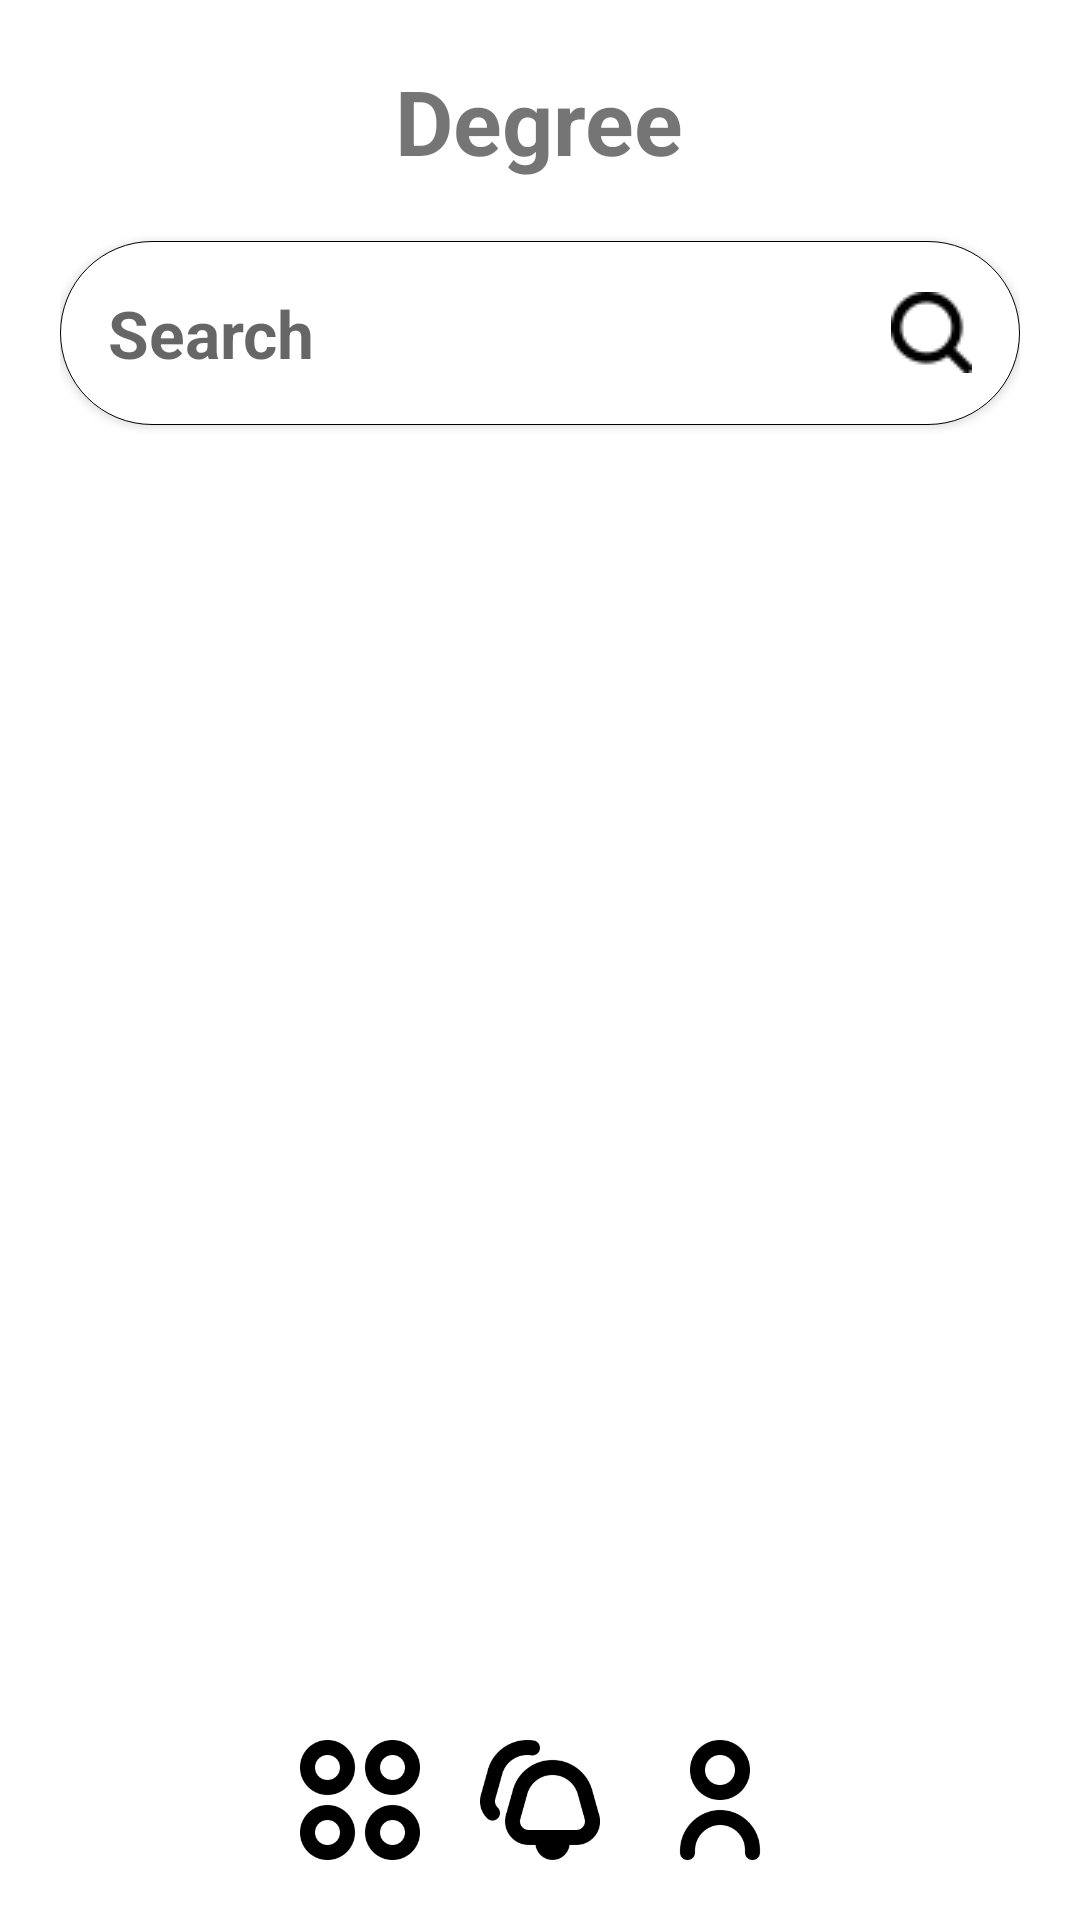

Named icons in this screenshot (1080x1920) and their centers, (x,y):
menu: (360,1800)
notification: (540,1800)
user: (720,1800)
